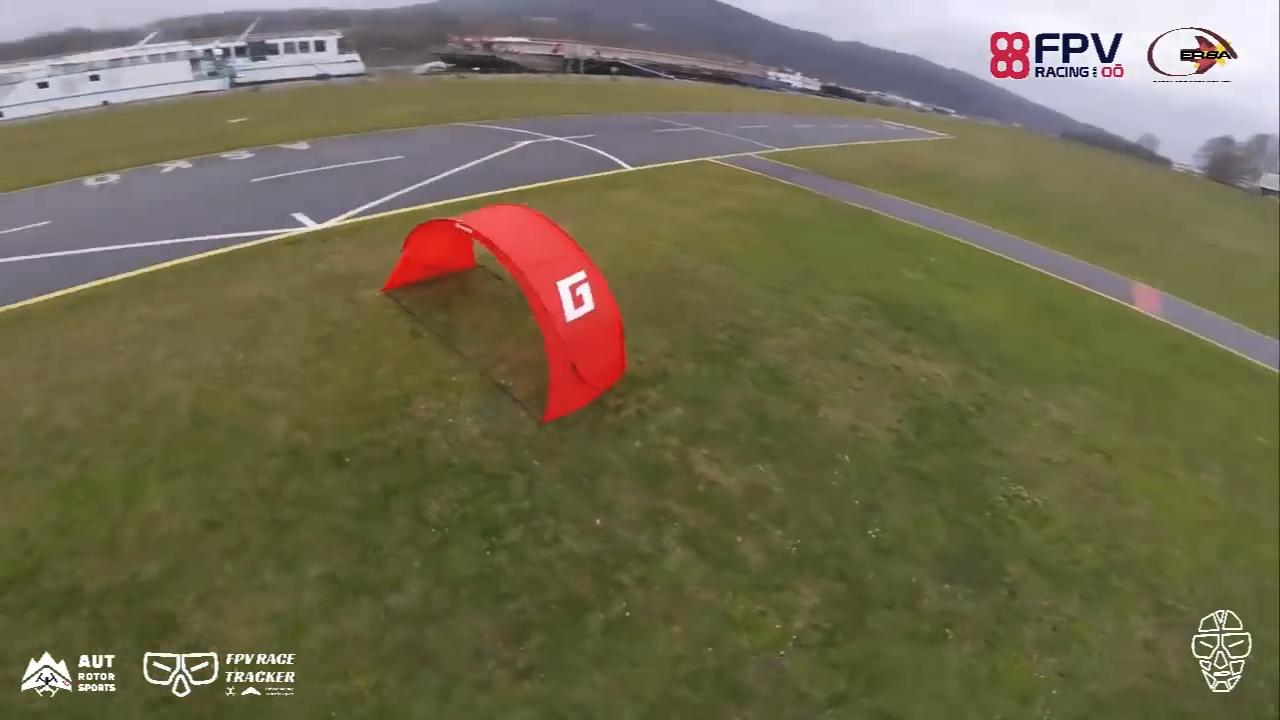gate: (382, 202, 631, 426)
